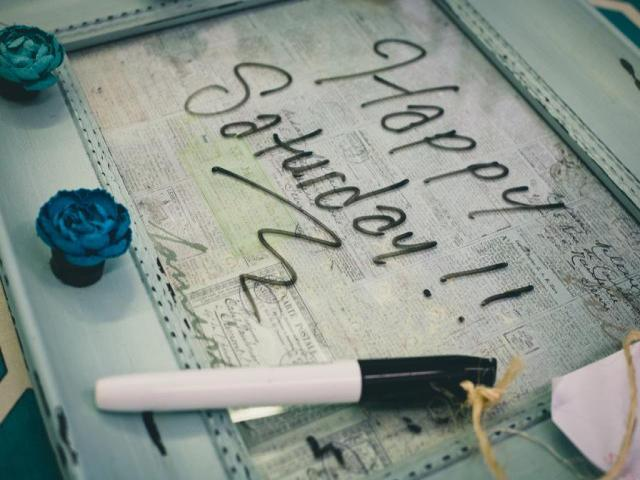PEN: (86, 347, 507, 421)
